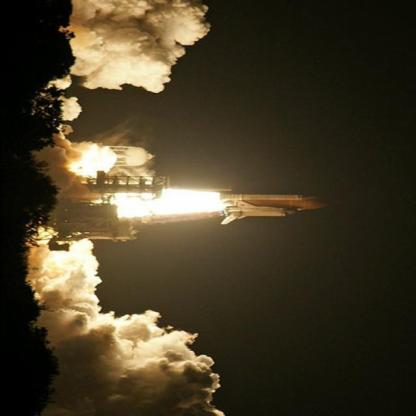MIL_TBM: (218, 193, 318, 202)
